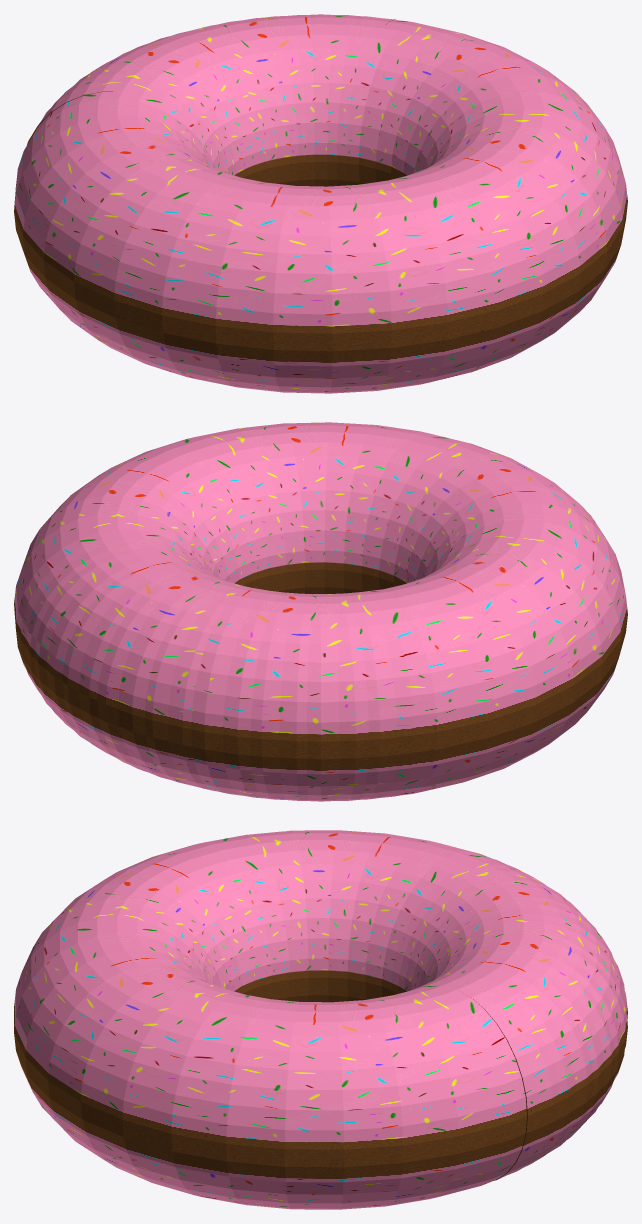
File: dona3.obj
The picture shows the model from 3 angles, top to bottom: view 1: azimuth 30°, elevation 25°; view 2: azimuth 150°, elevation 25°; view 3: azimuth 270°, elevation 25°; orthographic projection.
Parts seen in each view (by area): view 1: dona3:Mesh; view 2: dona3:Mesh; view 3: dona3:Mesh.
Boxes of the visible parts, x1=… form: dona3:Mesh: x1=14, y1=14, x2=627, y2=393; dona3:Mesh: x1=14, y1=422, x2=627, y2=801; dona3:Mesh: x1=14, y1=830, x2=627, y2=1209.
Bounding box in the file's own units: 1.25 × 0.4245 × 1.25.
1 material, 1 textured.
